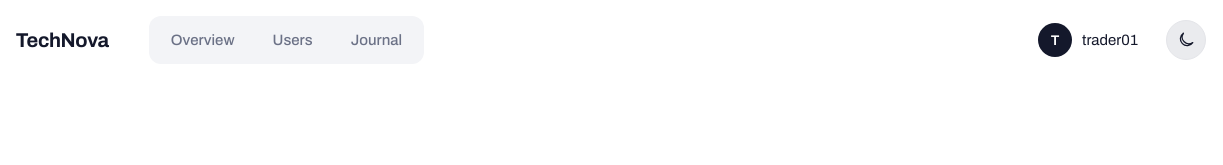
Scenario: NavBarComponent › for an admin › hides the account pill and the trading links in the avatar menu
The width and height of the screenshot is (1223, 165).
Click the button with class "menu-button" at (1093, 40), box [1036,21,1150,59]
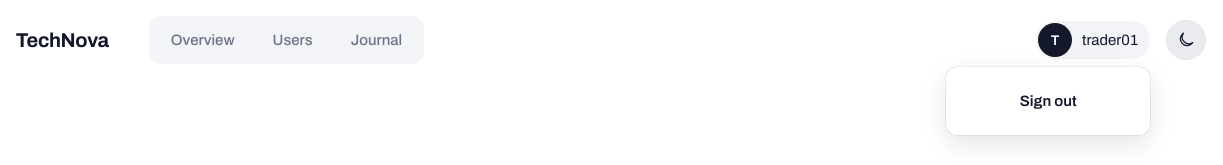
Now the button with class "menu-sign-out" is shown, box [958,79,1138,123]
